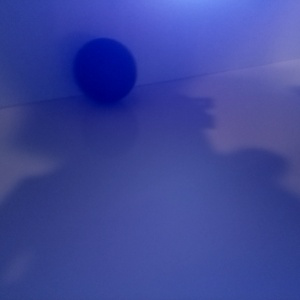dead_ball: (75, 38, 137, 103)
